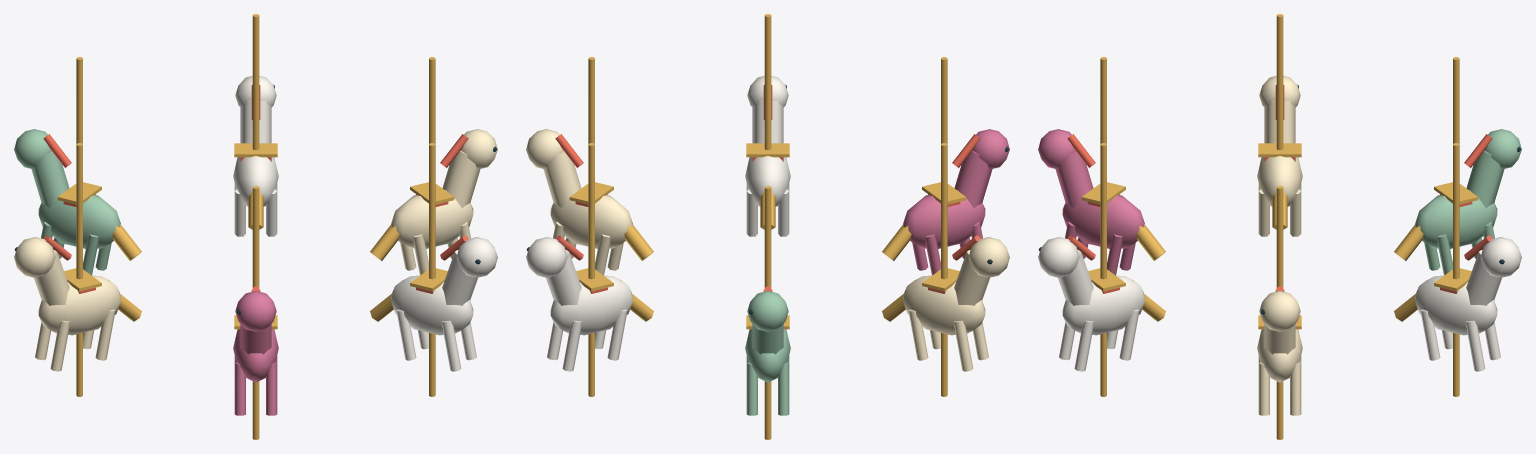
Rendered from carousel_rotor.glb.
3 views of the same model, side by side, from view 1: azimuth 30°, elevation 25°; view 2: azimuth 150°, elevation 25°; view 3: azimuth 270°, elevation 25° (orthographic).
Visible parts, largest first — view 1: carousel_rotor; view 2: carousel_rotor; view 3: carousel_rotor.
Boxes of the visible parts, box(x1,y1,x2,y2) form: carousel_rotor: box(14, 14, 497, 439); carousel_rotor: box(526, 14, 1009, 439); carousel_rotor: box(1038, 14, 1521, 439).
Size of the model in its own units: 6.38 by 3.2 by 5.59.
